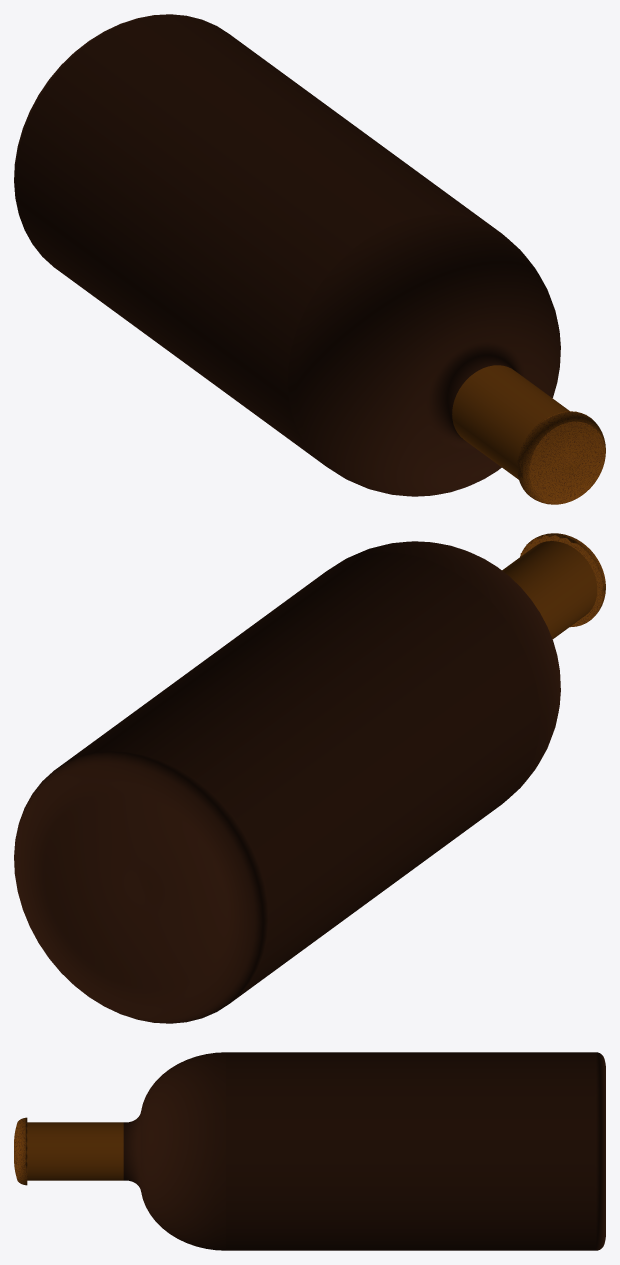
The model's file is model_align.obj.
3 views of the same model, one above another, from view 1: azimuth 30°, elevation 25°; view 2: azimuth 150°, elevation 25°; view 3: azimuth 270°, elevation 25° (orthographic). The views are drawn at different scales.
Visible parts, largest first — view 1: mesh1_mesh1-geometry; view 2: mesh1_mesh1-geometry; view 3: mesh1_mesh1-geometry.
Part boxes in pixels (x1,y1,x2,y2): mesh1_mesh1-geometry: [14, 14, 605, 504]; mesh1_mesh1-geometry: [14, 533, 605, 1023]; mesh1_mesh1-geometry: [14, 1052, 605, 1250].
Size of the model in its own units: 0.0799 by 0.0799 by 0.2382.
